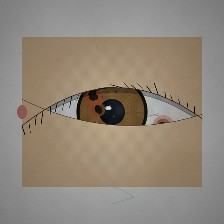foreign_body_visible: (139, 106, 188, 146)
